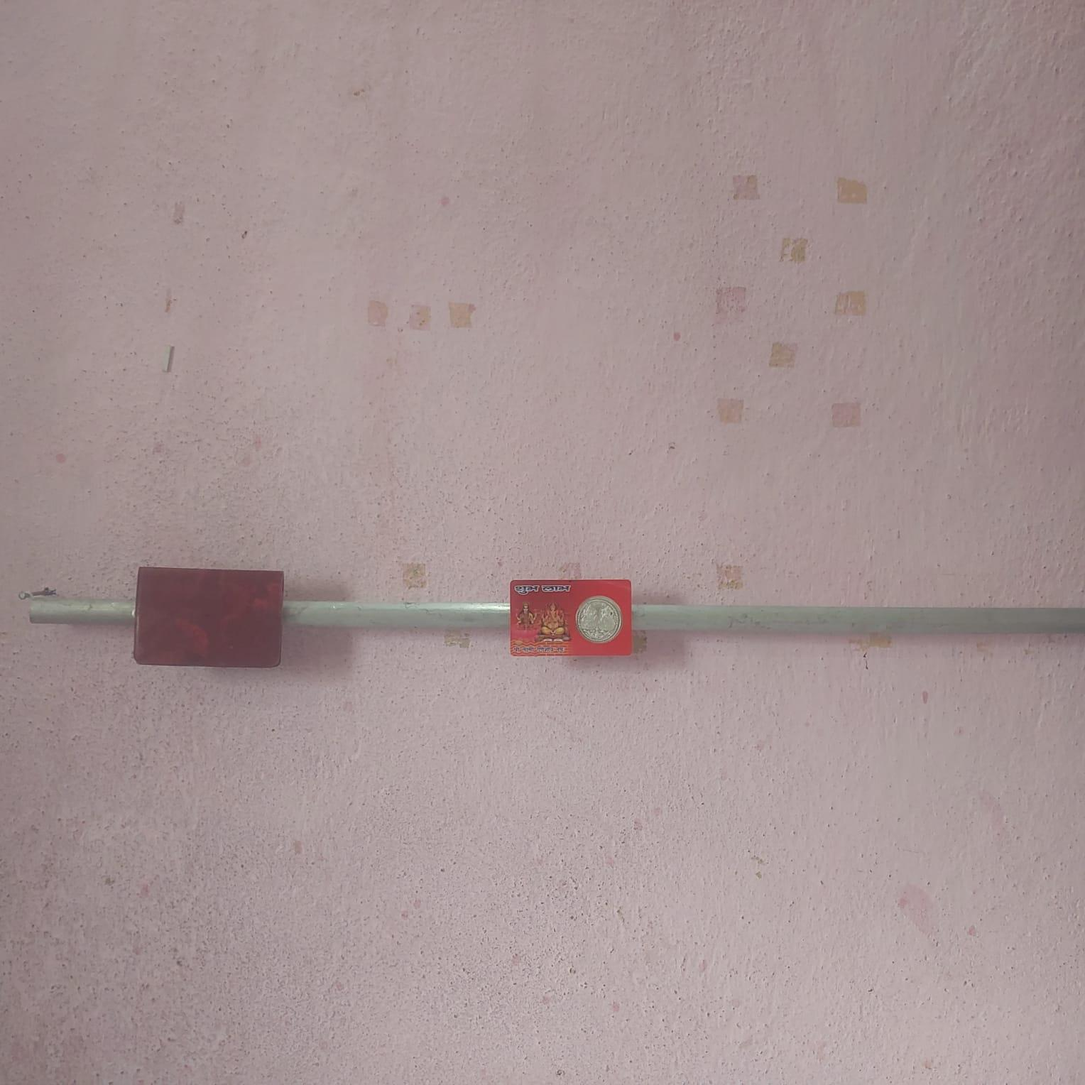blessing_card: (508, 577, 637, 658)
wallet: (137, 565, 287, 674)
